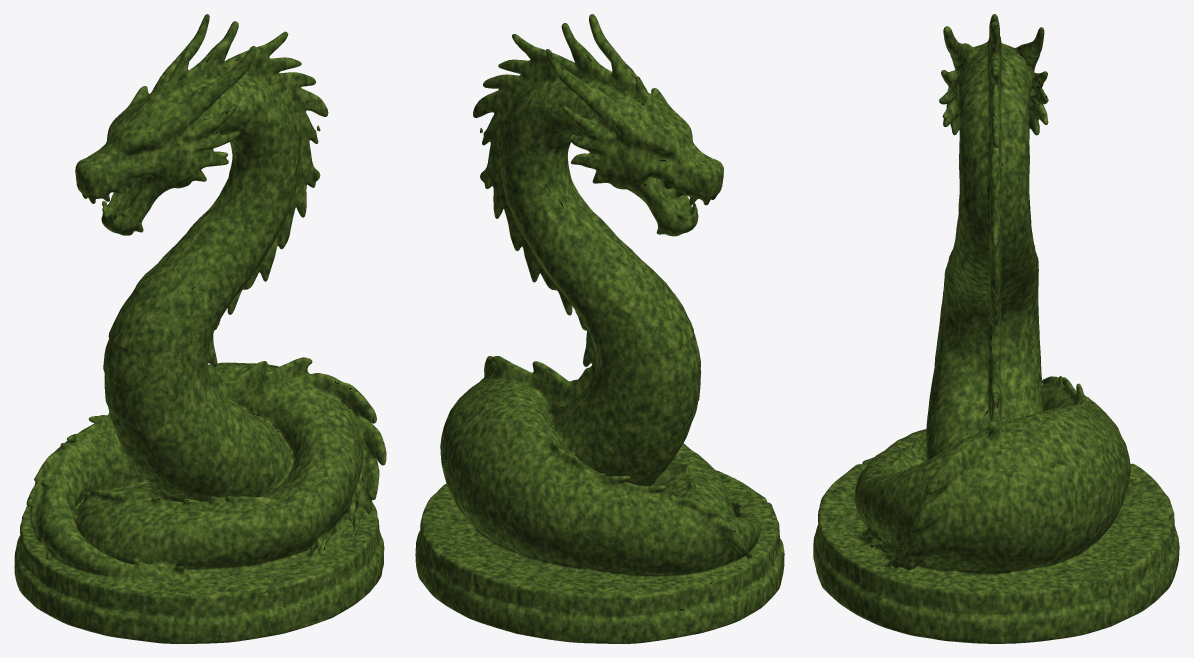
Rendered from serpent-hedge.glb.
3 renders of one model, left to right at view 1: azimuth 30°, elevation 25°; view 2: azimuth 150°, elevation 25°; view 3: azimuth 270°, elevation 25°, orthographic. The views are drawn at different scales.
Visible parts, largest first — view 1: serpent - original generated mesh; view 2: serpent - original generated mesh; view 3: serpent - original generated mesh.
Part boxes in pixels (x1,y1,x2,y2): serpent - original generated mesh: [14, 14, 386, 643]; serpent - original generated mesh: [415, 14, 784, 643]; serpent - original generated mesh: [813, 14, 1179, 643].
Bounding box in the file's own units: 2.65 × 4.2 × 2.49.
1 material, 1 textured.
